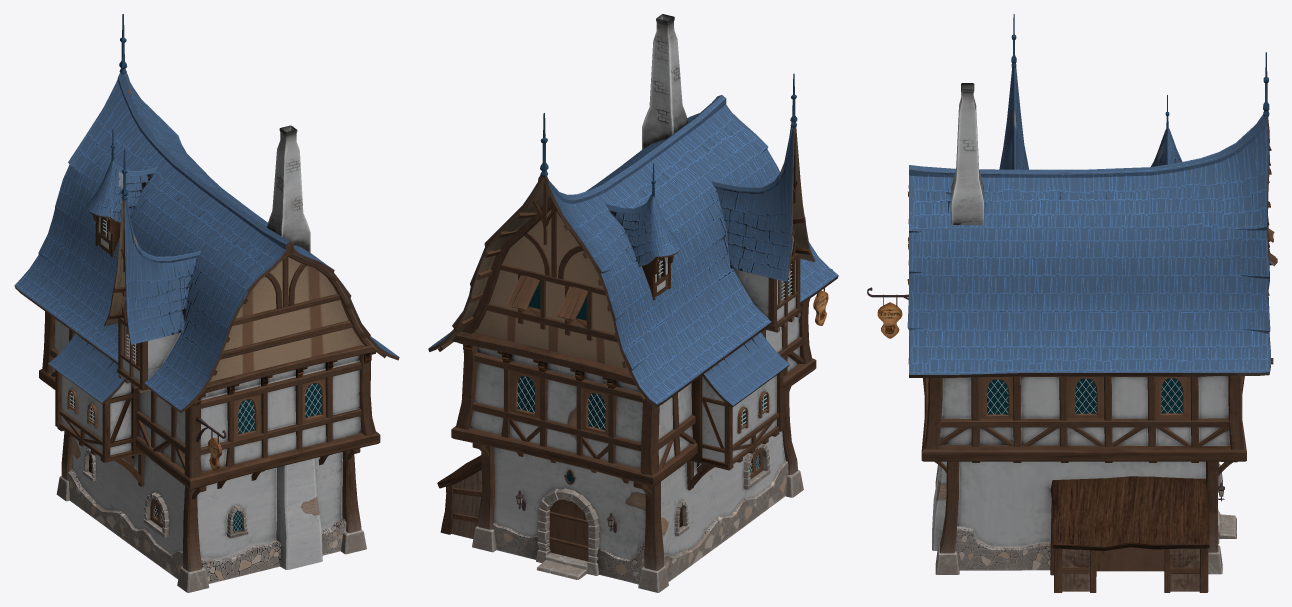
The model's file is house1.fbx.
3 renders of one model, left to right at view 1: azimuth 30°, elevation 25°; view 2: azimuth 150°, elevation 25°; view 3: azimuth 270°, elevation 25°, orthographic. The views are drawn at different scales.
Parts seen in each view (by area): view 1: Tavern_Tavern_geo; view 2: Tavern_Tavern_geo; view 3: Tavern_Tavern_geo.
Boxes of the visible parts, x1,y1,x2,y2 form: Tavern_Tavern_geo: (14,14,399,592); Tavern_Tavern_geo: (428,14,838,592); Tavern_Tavern_geo: (867,14,1277,592).
Size of the model in its own units: 798 by 1340 by 1046.
